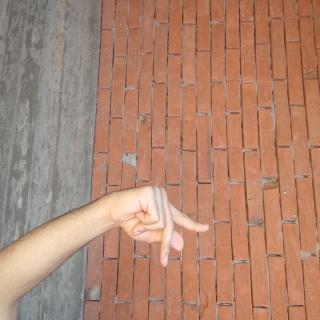DHAA: (131, 142, 204, 293)
